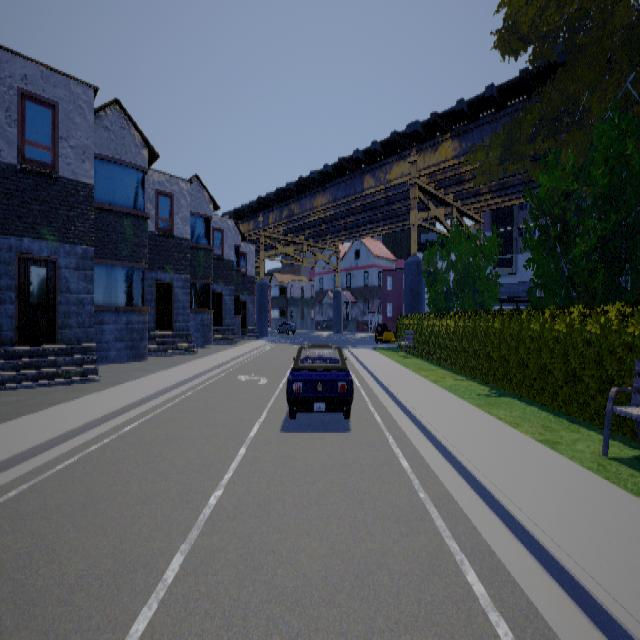vehicle: (285, 342, 353, 418)
